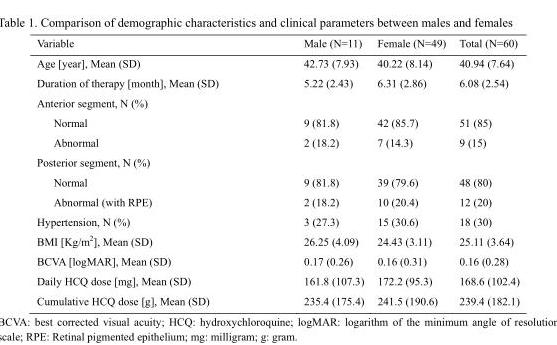table: (35, 36, 518, 306)
table column: (35, 36, 260, 306), (260, 36, 370, 306), (370, 36, 451, 306), (451, 36, 518, 306)
table column header: (35, 36, 518, 52)
table projected row header: (35, 92, 518, 112), (35, 151, 518, 171)
table row: (35, 52, 518, 72), (35, 72, 518, 92), (35, 92, 518, 112), (35, 112, 518, 132), (35, 151, 518, 171), (35, 171, 518, 191), (35, 191, 518, 211), (35, 230, 518, 250), (35, 250, 518, 270), (35, 270, 518, 290), (35, 132, 518, 151), (35, 211, 518, 230), (35, 36, 518, 52), (35, 290, 518, 306)
